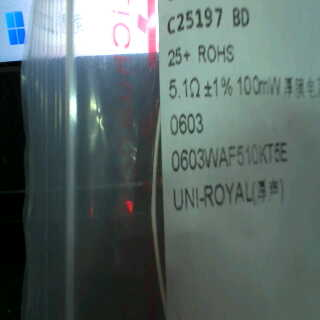5.1R: (162, 76, 203, 99)
